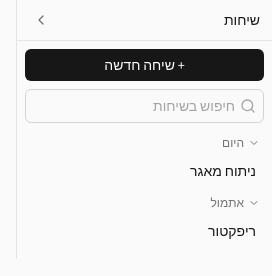
Test case: ThreadSidebar (P9-T12) › search with no matches shows the no-results message
Type "xyz-does-not-exist" into the search field at (144, 106), box [25, 89, 264, 123]
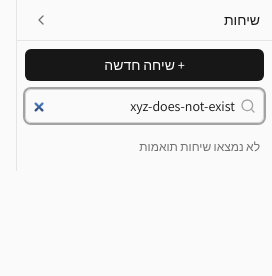
Check: the text "לא נמצאו שיחות תואמות" is shown, box [139, 139, 260, 154]
